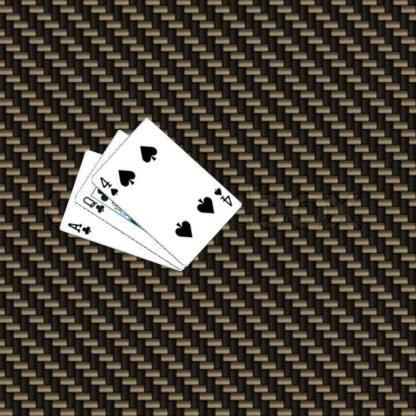4S: (97, 175, 119, 197), (211, 185, 233, 207)
AC: (65, 220, 92, 236)
QC: (80, 193, 106, 214)
